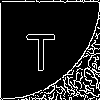T: (24, 24, 57, 72)
